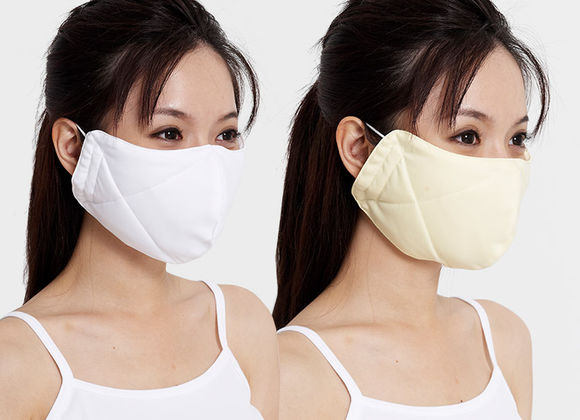face_mask: (83, 50, 257, 255), (390, 57, 534, 266)
